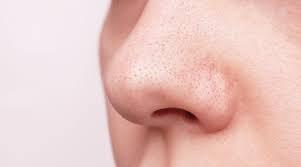Englarged-Pores: (109, 15, 283, 114)
